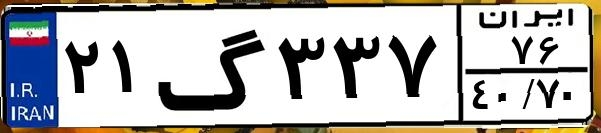0: (560, 70, 590, 125), (495, 70, 520, 125)
1: (110, 28, 156, 98)
2: (57, 26, 110, 100)
3: (270, 28, 330, 110), (330, 28, 385, 110)
4: (470, 70, 495, 125)
6: (537, 27, 568, 80)
7: (385, 28, 445, 110), (508, 27, 537, 80), (535, 70, 560, 125)
گ: (156, 12, 270, 120)
